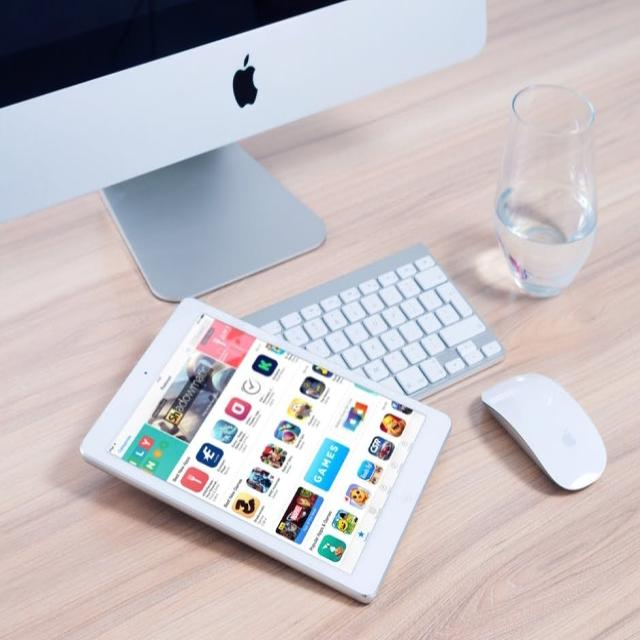E-waste: (0, 0, 476, 600), (480, 370, 620, 510)
Glass: (491, 64, 615, 309)
